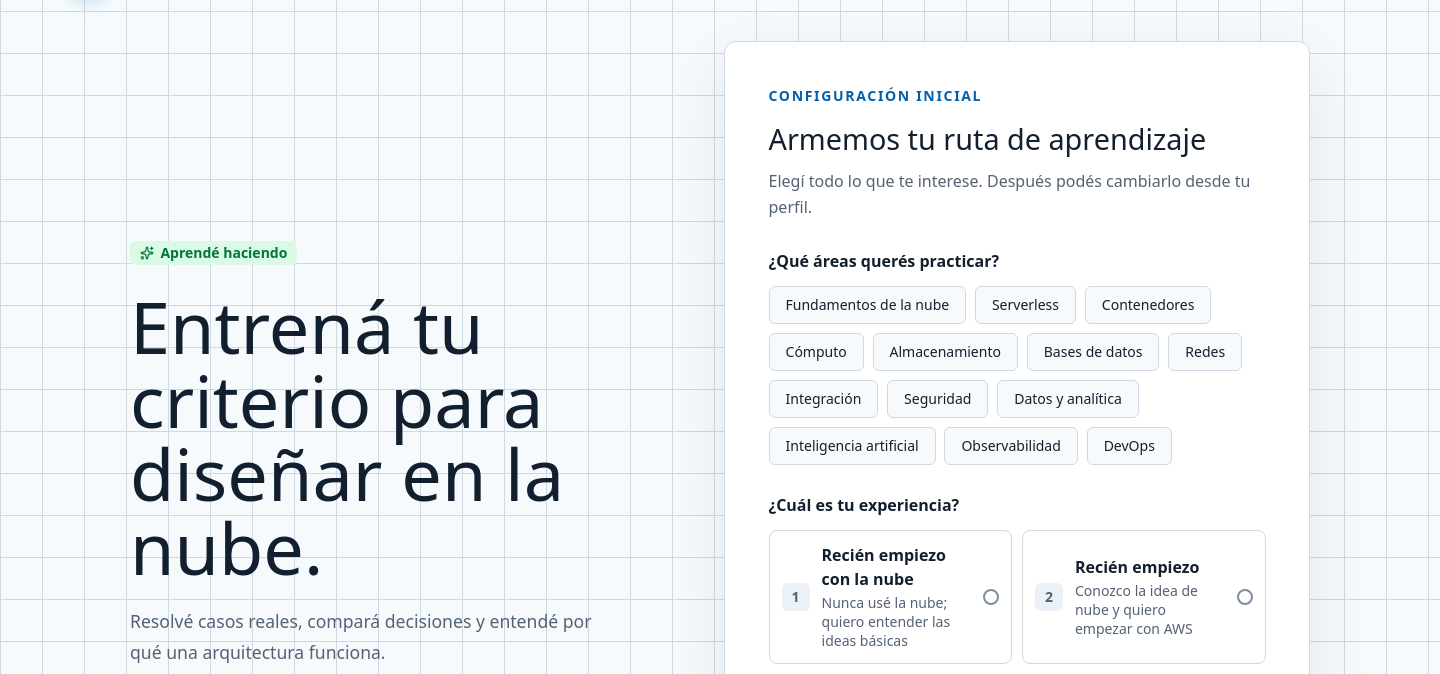
it: onboarding › with a level 0 scenario listed (RF-ONB-05) › marks «Fundamentos de la nube» when choosing it, which the player can unmark
What coordinates should you click on to do the following:
click the radio button labelled "Recién empiezo con la nube"
I would click on:
 (890, 597)
Its box is top-left (768, 530), bottom-right (1012, 664).
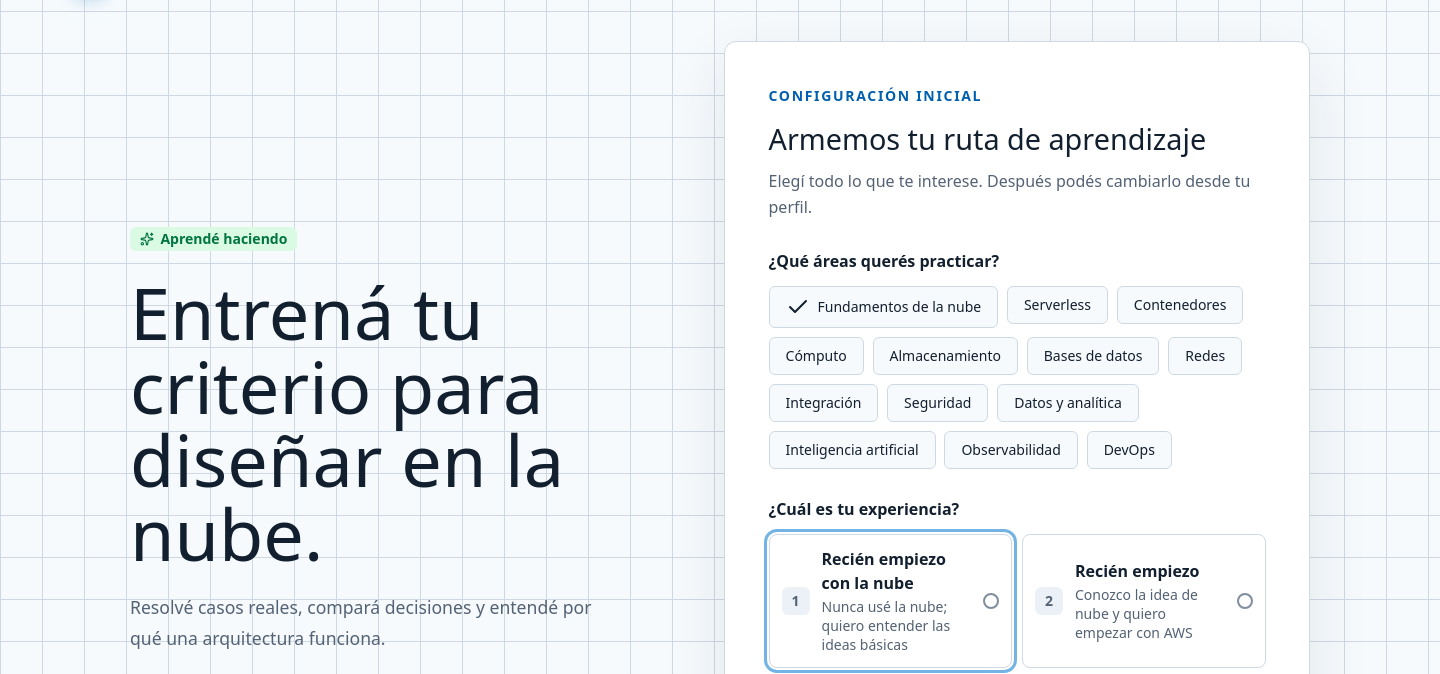
Expected: the button "Fundamentos de la nube" is pressed
What coordinates should you click on to do the following:
click the button "Fundamentos de la nube"
I would click on:
 (883, 307)
Its box is top-left (768, 286), bottom-right (998, 328).
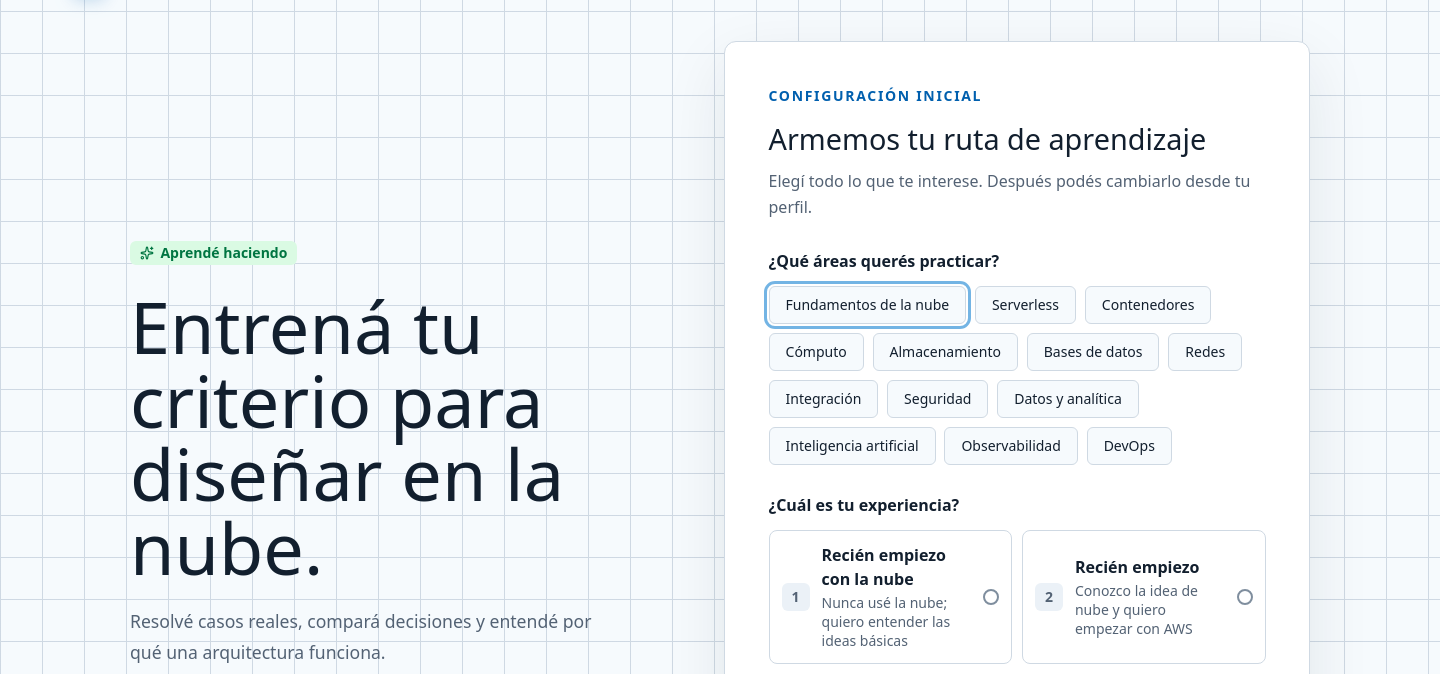
Expected: the button "Fundamentos de la nube" is not pressed, top-left (768, 286), bottom-right (966, 324)
What coordinates should you click on to do the following:
click the button "Serverless"
I would click on:
 (1025, 305)
Its box is top-left (975, 286), bottom-right (1076, 324).
(page scrolled)
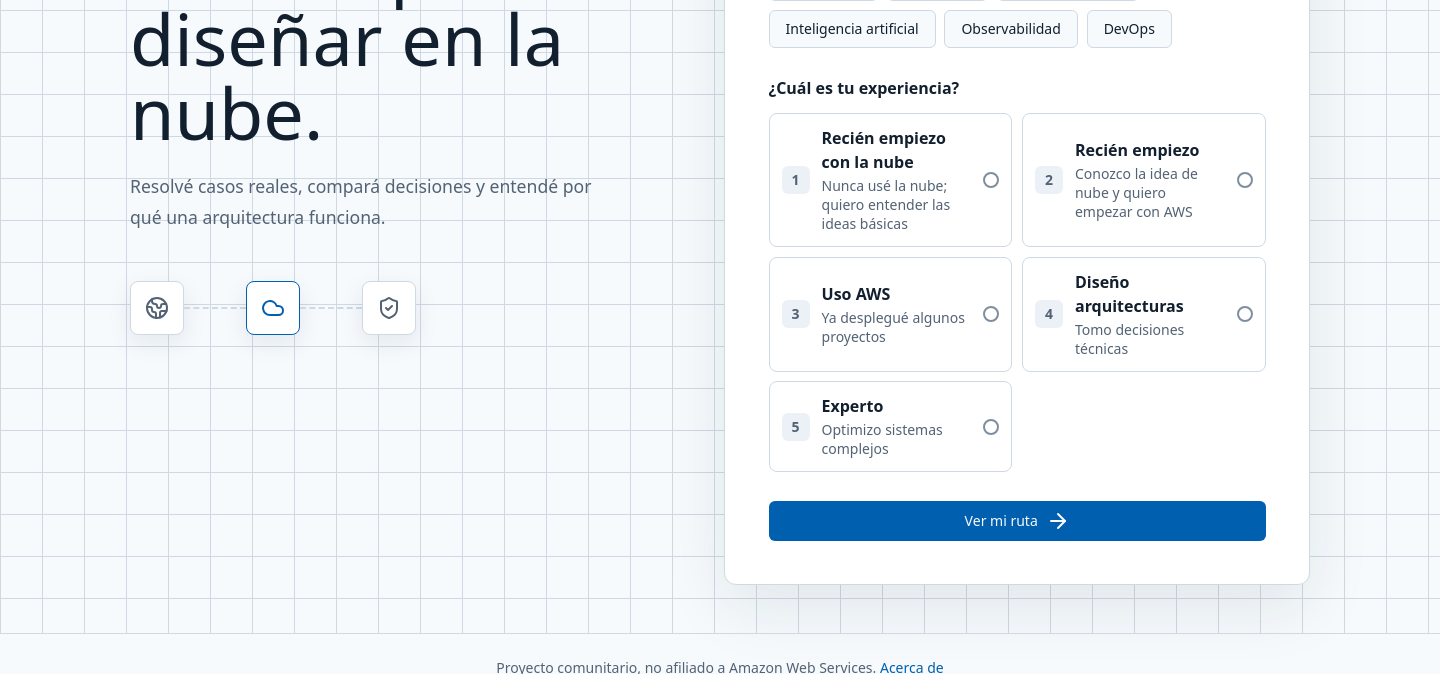
What coordinates should you click on to do the following:
click the button "Ver mi ruta"
I would click on:
 (1017, 521)
Its box is top-left (768, 501), bottom-right (1266, 541).
(page scrolled)
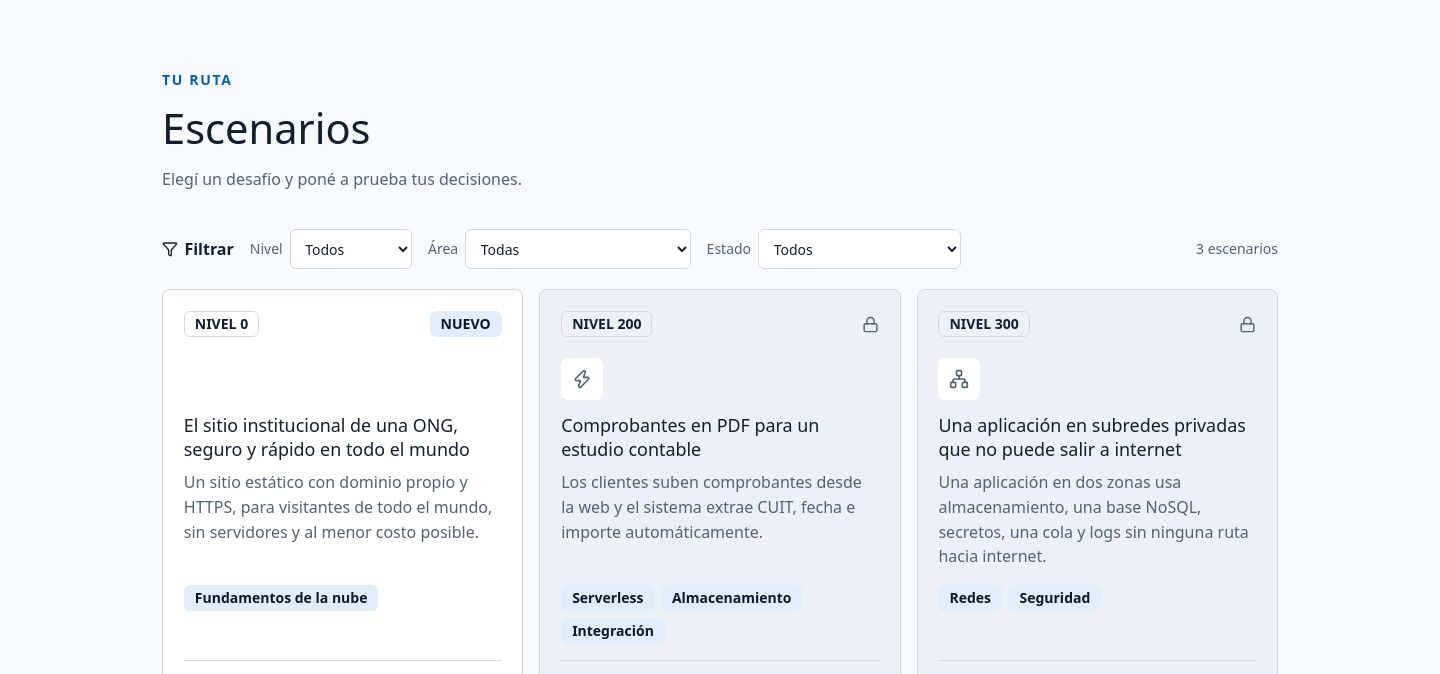
Expected: the heading "Escenarios" is shown, top-left (162, 100), bottom-right (370, 156)
